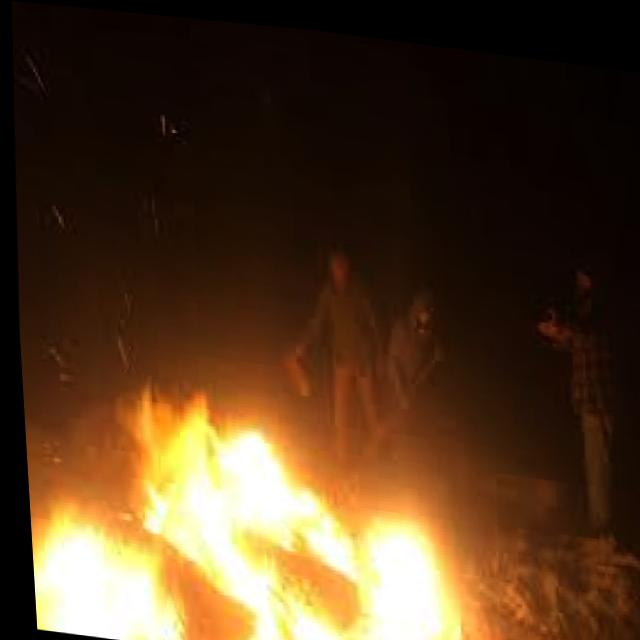helmet: (16, 348, 472, 640)
